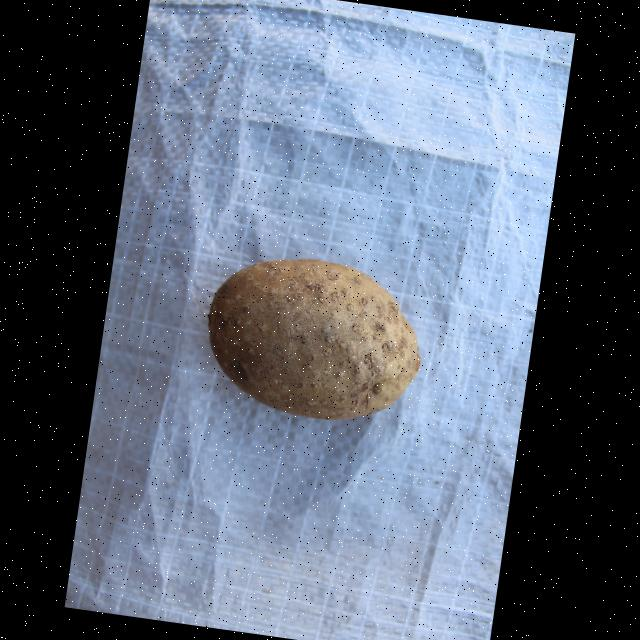Diseased-fungal potato: (195, 242, 436, 432)
